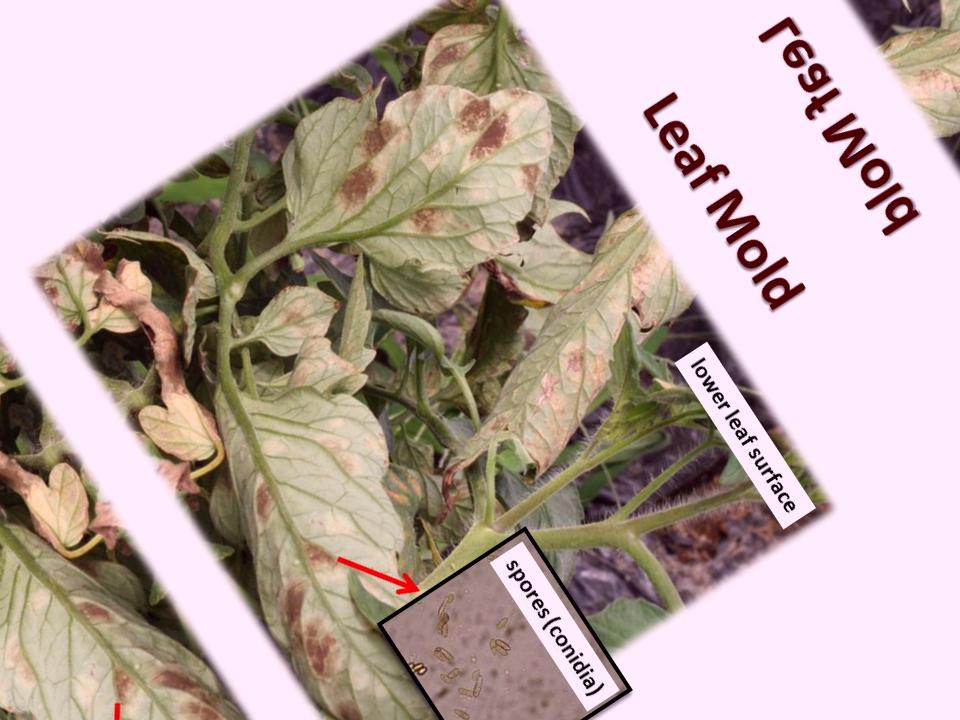Tomato mold leaf: (148, 319, 558, 720), (231, 0, 610, 355), (383, 192, 727, 508), (229, 258, 355, 378)
